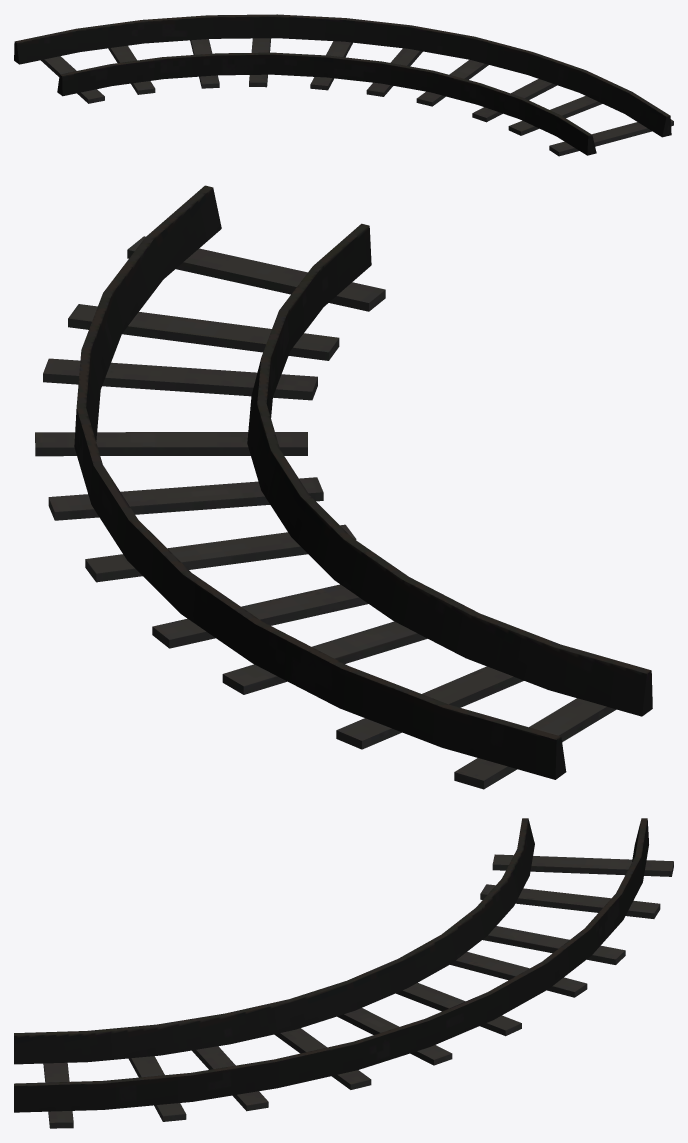
Rendered from SM_Railway_corner.fbx.
3 views of the same model, one above another, from view 1: azimuth 30°, elevation 25°; view 2: azimuth 150°, elevation 25°; view 3: azimuth 270°, elevation 25° (orthographic). The views are drawn at different scales.
Parts seen in each view (by area): view 1: SM_Railway_corner; view 2: SM_Railway_corner; view 3: SM_Railway_corner.
Boxes of the visible parts, bbox=[...] form: SM_Railway_corner: bbox=[14, 14, 673, 156]; SM_Railway_corner: bbox=[35, 185, 652, 789]; SM_Railway_corner: bbox=[14, 818, 673, 1128].
Size of the model in its own units: 23.1 by 1.22 by 23.12.
Materials: 1 (1 with a texture image).
